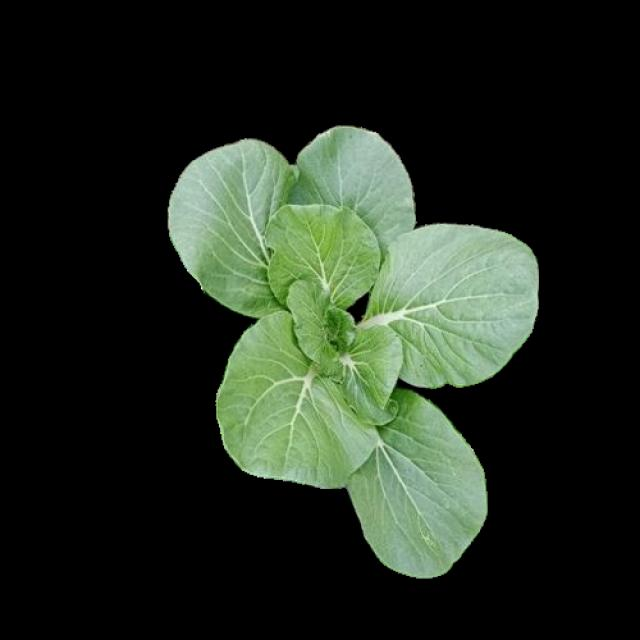healthy: (164, 123, 536, 572)
not-mature: (166, 125, 539, 575)
